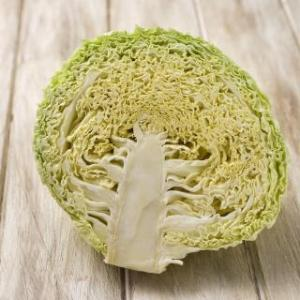cabbage: (27, 24, 292, 276)
